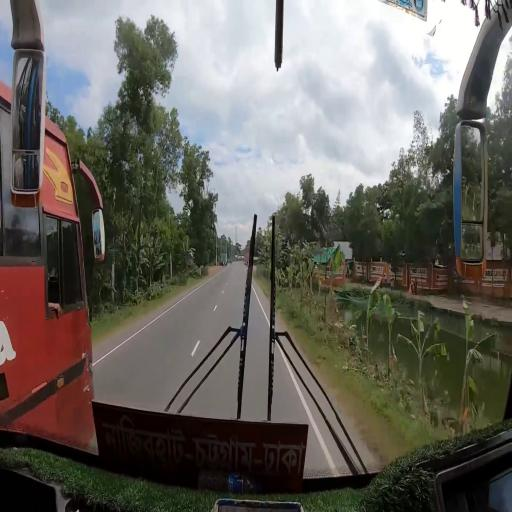bus: (3, 91, 107, 452)
